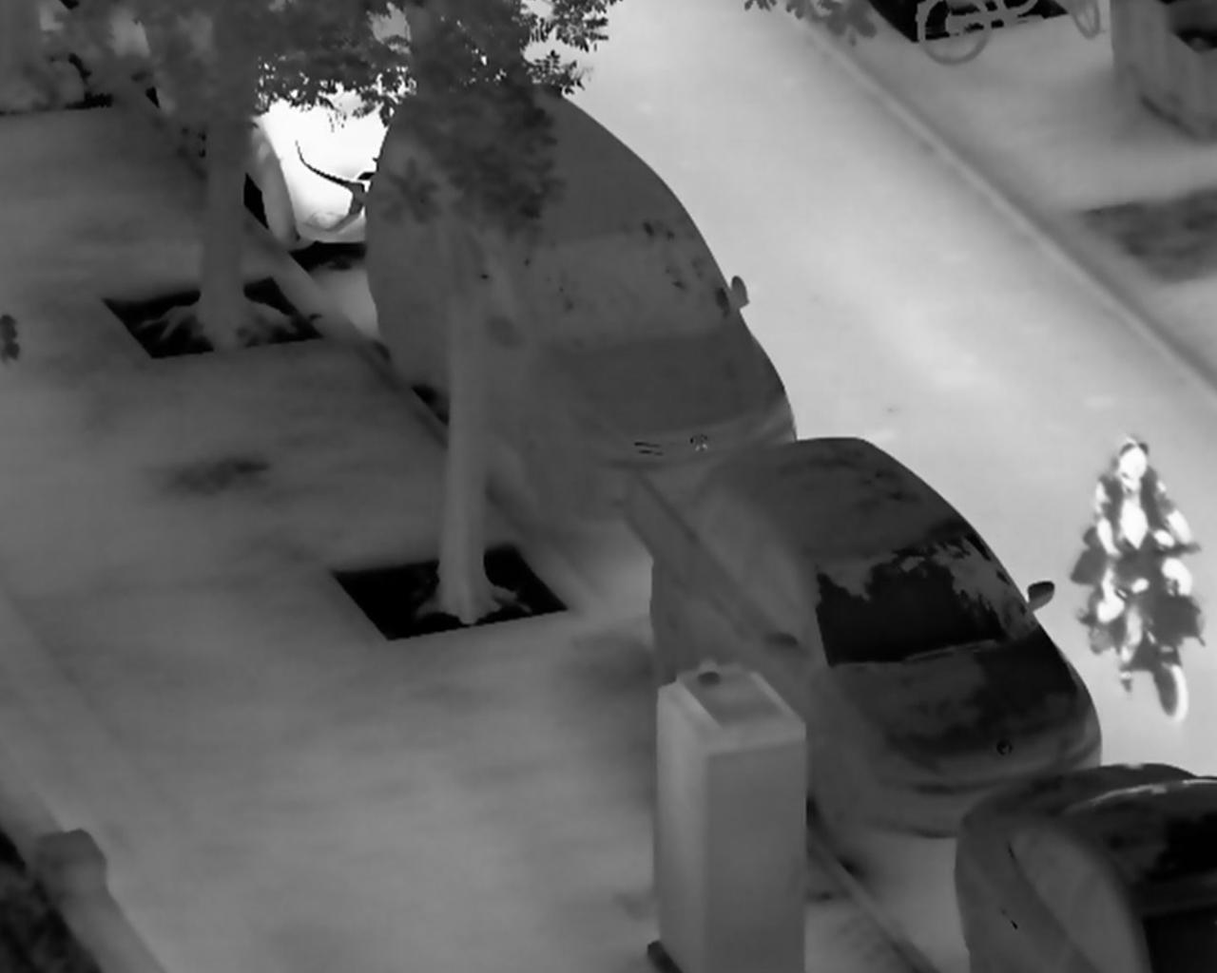person: (1085, 434, 1196, 660)
